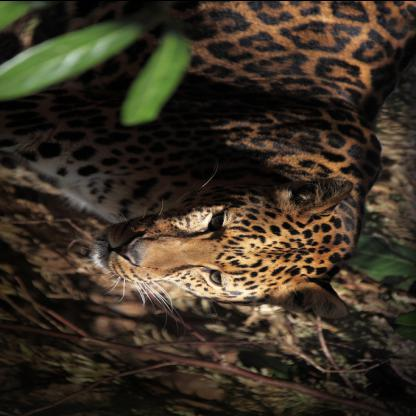leopard: (90, 166, 358, 304)
